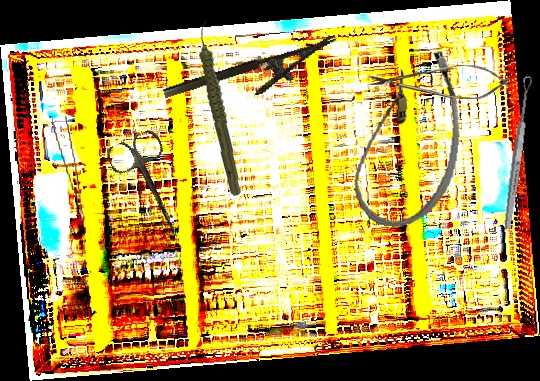Cannula: (349, 42, 470, 234)
Handpiece: (192, 20, 249, 197)
Iris Scissors: (104, 127, 197, 243)
Micro Scissor: (368, 65, 512, 99)
Needle Holder: (162, 34, 345, 122)
Surgical Spoon: (502, 75, 534, 231)
Tissue Forceps: (51, 115, 85, 224)
